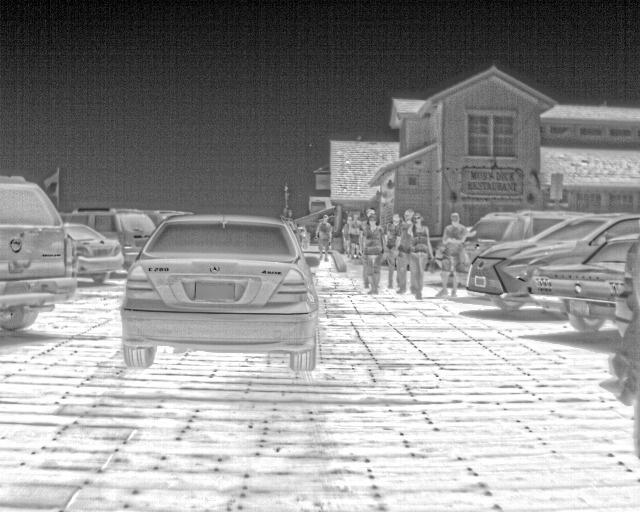bicycle: (116, 212, 324, 369), (465, 210, 638, 312), (529, 229, 639, 337), (0, 174, 75, 331), (464, 207, 591, 268), (61, 208, 157, 271), (62, 222, 126, 288)
empty: (438, 213, 473, 297), (408, 213, 436, 298), (393, 213, 419, 295), (362, 214, 386, 293), (382, 214, 402, 286), (314, 213, 332, 261), (348, 211, 364, 260), (341, 213, 354, 253)
